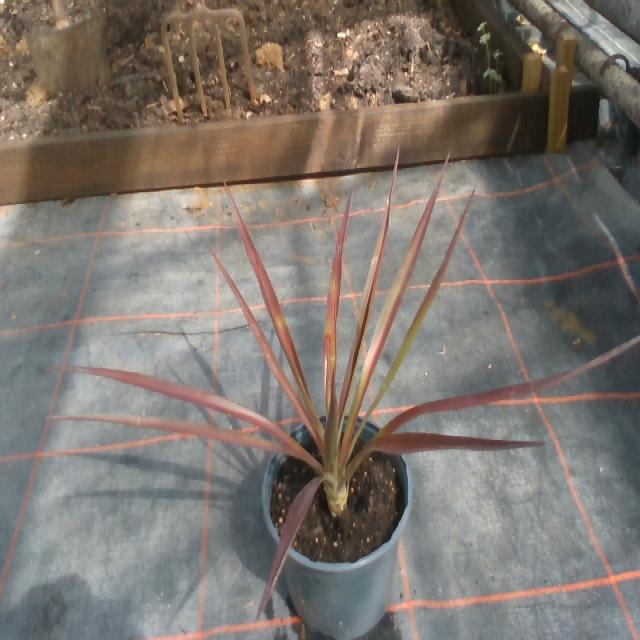Yucca-aloifolia: (342, 159, 447, 461), (376, 336, 639, 436), (365, 193, 472, 417), (225, 185, 319, 428), (71, 367, 295, 445), (212, 249, 310, 425), (339, 151, 398, 417), (258, 476, 322, 616), (60, 416, 294, 452), (325, 185, 354, 408), (367, 433, 542, 453)
